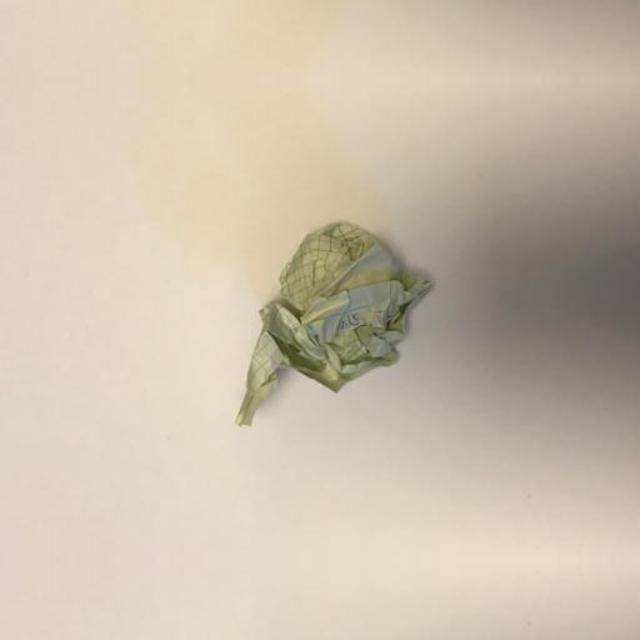paper: (224, 208, 436, 442)
